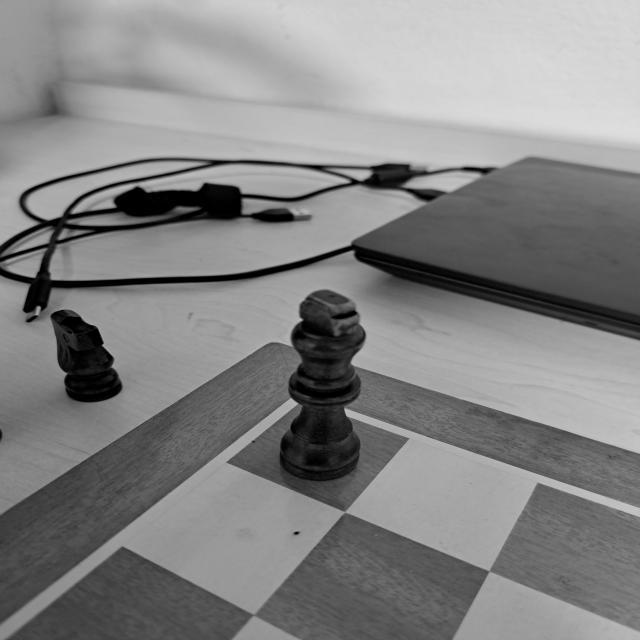chess-table-corners: (236, 366, 382, 446)
